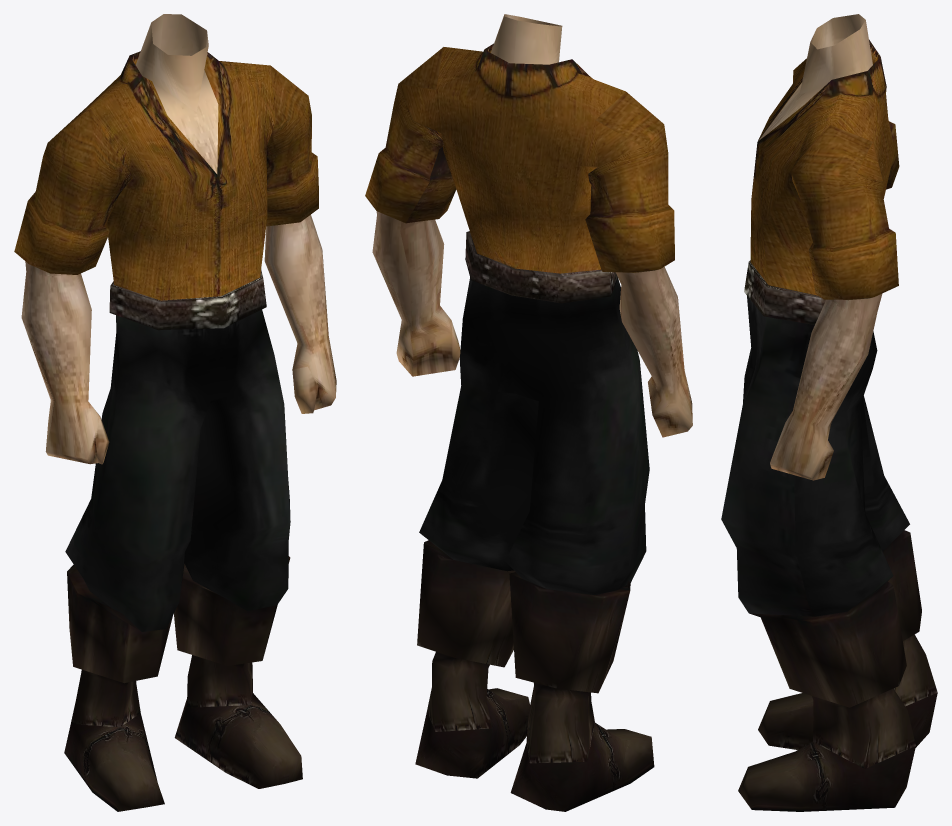
File: KOSZULA_POMARANCZ.glb
3 views of the same model, side by side, from view 1: azimuth 30°, elevation 25°; view 2: azimuth 150°, elevation 25°; view 3: azimuth 270°, elevation 25° (orthographic).
Visible parts, largest first — view 1: KOSZULA_POMARANCZ; view 2: KOSZULA_POMARANCZ; view 3: KOSZULA_POMARANCZ.
Part boxes in pixels (left/top/right/bottom): KOSZULA_POMARANCZ: left=14, top=14, right=336, bottom=811; KOSZULA_POMARANCZ: left=365, top=14, right=692, bottom=811; KOSZULA_POMARANCZ: left=721, top=14, right=937, bottom=811.
Size of the model in its own units: 0.6885 by 1.68 by 0.4402.
2 materials, 2 textured.
